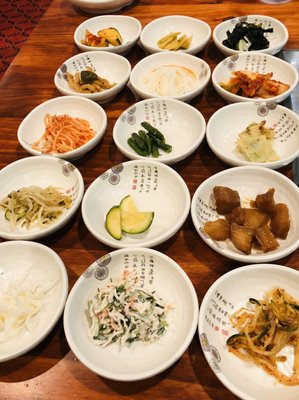sushi: (62, 247, 199, 382), (197, 265, 299, 400), (189, 165, 299, 265), (81, 160, 191, 248), (0, 241, 69, 366), (0, 155, 84, 242), (111, 96, 206, 166), (205, 101, 299, 169), (17, 95, 108, 162), (210, 52, 299, 109), (127, 51, 211, 103), (54, 51, 131, 105), (212, 15, 289, 58), (139, 15, 212, 57), (73, 15, 142, 55), (68, 0, 140, 14)
